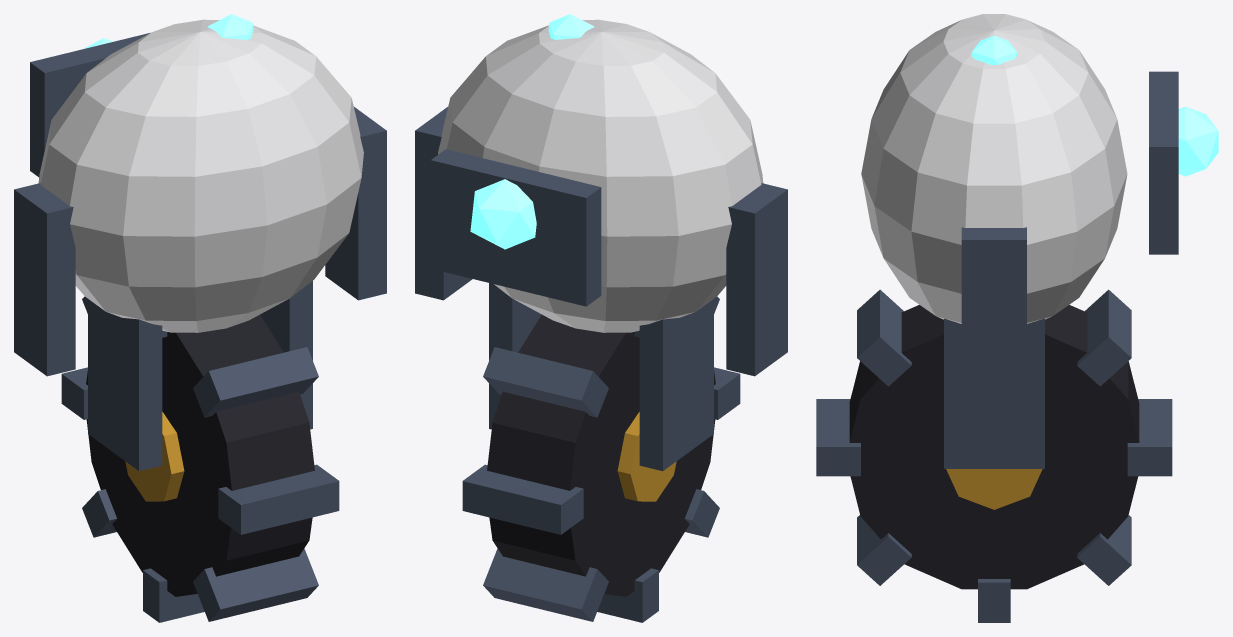
Rendered from robot.glb.
3 renders of one model, left to right at view 1: azimuth 30°, elevation 25°; view 2: azimuth 150°, elevation 25°; view 3: azimuth 270°, elevation 25°, orthographic.
Parts seen in each view (by area): view 1: robot_head, robot_tire, robot_arm_l, robot_fork_l, robot_arm_r, robot_tread_4, robot_tread_5, robot_tread_3, robot_face, robot_fork_r, robot_hub, robot_tread_6 (+3 smaller); view 2: robot_head, robot_tire, robot_face, robot_arm_l, robot_fork_l, robot_tread_0, robot_tread_7, robot_tread_1, robot_arm_r, robot_eye, robot_fork_r, robot_hub (+4 smaller); view 3: robot_head, robot_tire, robot_arm_r, robot_fork_r, robot_face, robot_tread_1, robot_tread_3, robot_tread_0, robot_tread_4, robot_hub, robot_eye, robot_tread_7 (+3 smaller).
Part boxes in pixels (<box>): robot_head: <box>38,19,363,332</box>; robot_tire: <box>86,314,314,596</box>; robot_arm_l: <box>14,183,75,376</box>; robot_fork_l: <box>88,299,162,471</box>; robot_arm_r: <box>325,107,386,300</box>; robot_tread_4: <box>218,464,339,534</box>; robot_tread_5: <box>193,548,318,621</box>; robot_tread_3: <box>193,347,318,417</box>; robot_face: <box>30,33,149,177</box>; robot_fork_r: <box>260,281,312,429</box>; robot_hub: <box>125,412,184,501</box>; robot_tread_6: <box>143,568,204,622</box>; robot_head: <box>438,19,763,332</box>; robot_tire: <box>487,314,715,596</box>; robot_face: <box>431,149,601,306</box>; robot_arm_l: <box>726,183,787,376</box>; robot_fork_l: <box>639,299,713,471</box>; robot_tread_0: <box>462,464,583,534</box>; robot_tread_7: <box>483,548,608,621</box>; robot_tread_1: <box>483,347,608,417</box>; robot_arm_r: <box>415,107,472,300</box>; robot_eye: <box>470,179,536,249</box>; robot_fork_r: <box>489,283,541,429</box>; robot_hub: <box>617,412,676,501</box>; robot_head: <box>861,14,1127,323</box>; robot_tire: <box>849,305,1139,589</box>; robot_arm_r: <box>961,227,1026,401</box>; robot_fork_r: <box>944,318,1044,468</box>; robot_face: <box>1149,71,1178,254</box>; robot_tread_1: <box>1077,289,1131,386</box>; robot_tread_3: <box>857,289,911,386</box>; robot_tread_0: <box>1127,399,1172,476</box>; robot_tread_4: <box>816,399,860,476</box>; robot_hub: <box>946,469,1042,509</box>; robot_eye: <box>1178,106,1218,176</box>; robot_tread_7: <box>1077,515,1131,585</box>.
Size of the model in its own units: 0.655 by 1.07 by 0.6768.
